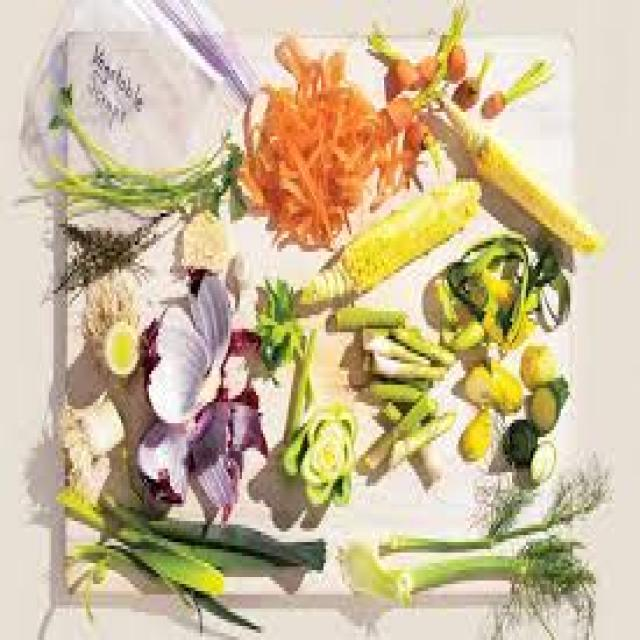Organik: (12, 0, 640, 640), (273, 220, 600, 542), (221, 16, 449, 242), (75, 218, 151, 440)
